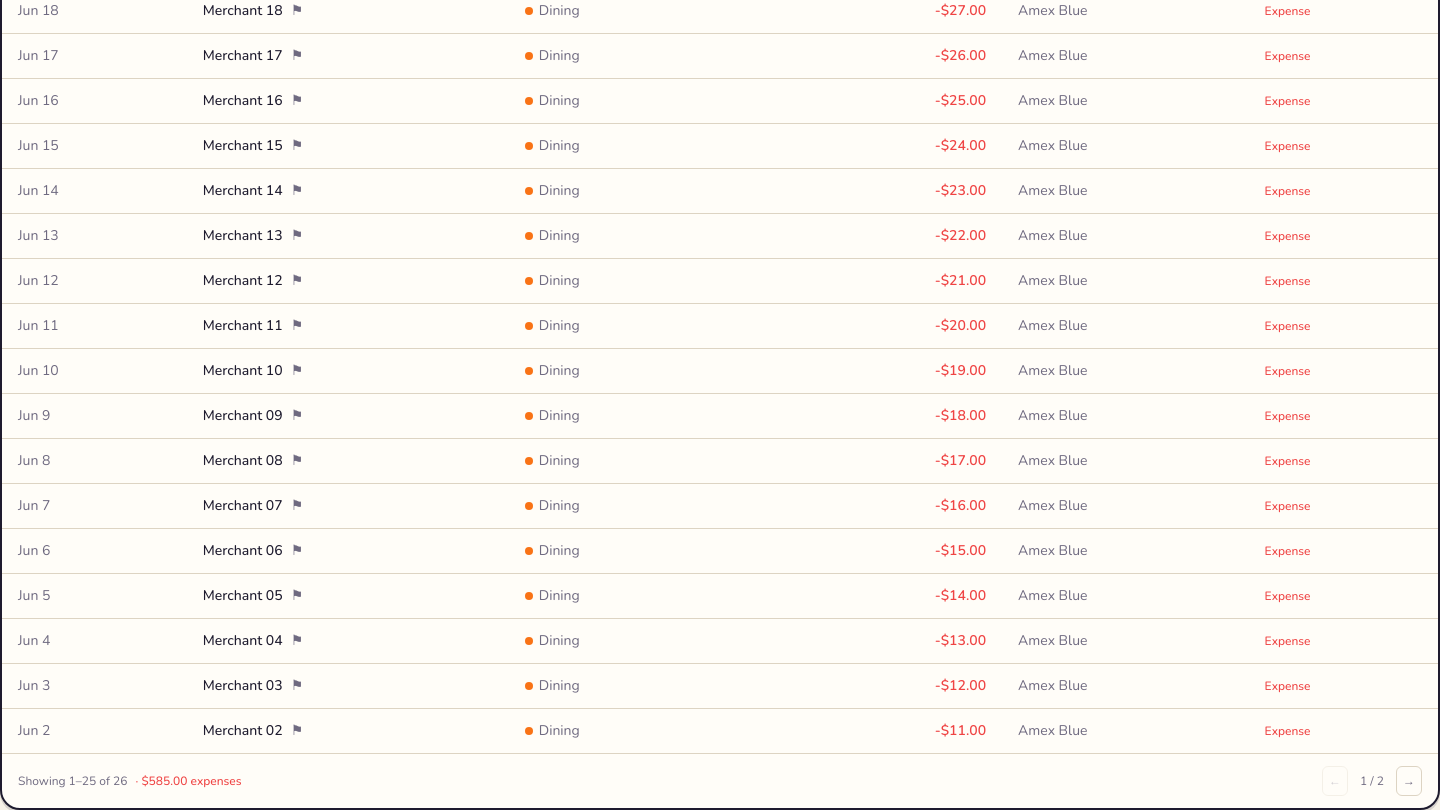
TransactionTable — pagination › advances to page 2 on next click and shows Merchant 01
(page scrolled)
Click the button named "next page" at point(1409, 781), box [1396,766,1422,796]
(page scrolled)
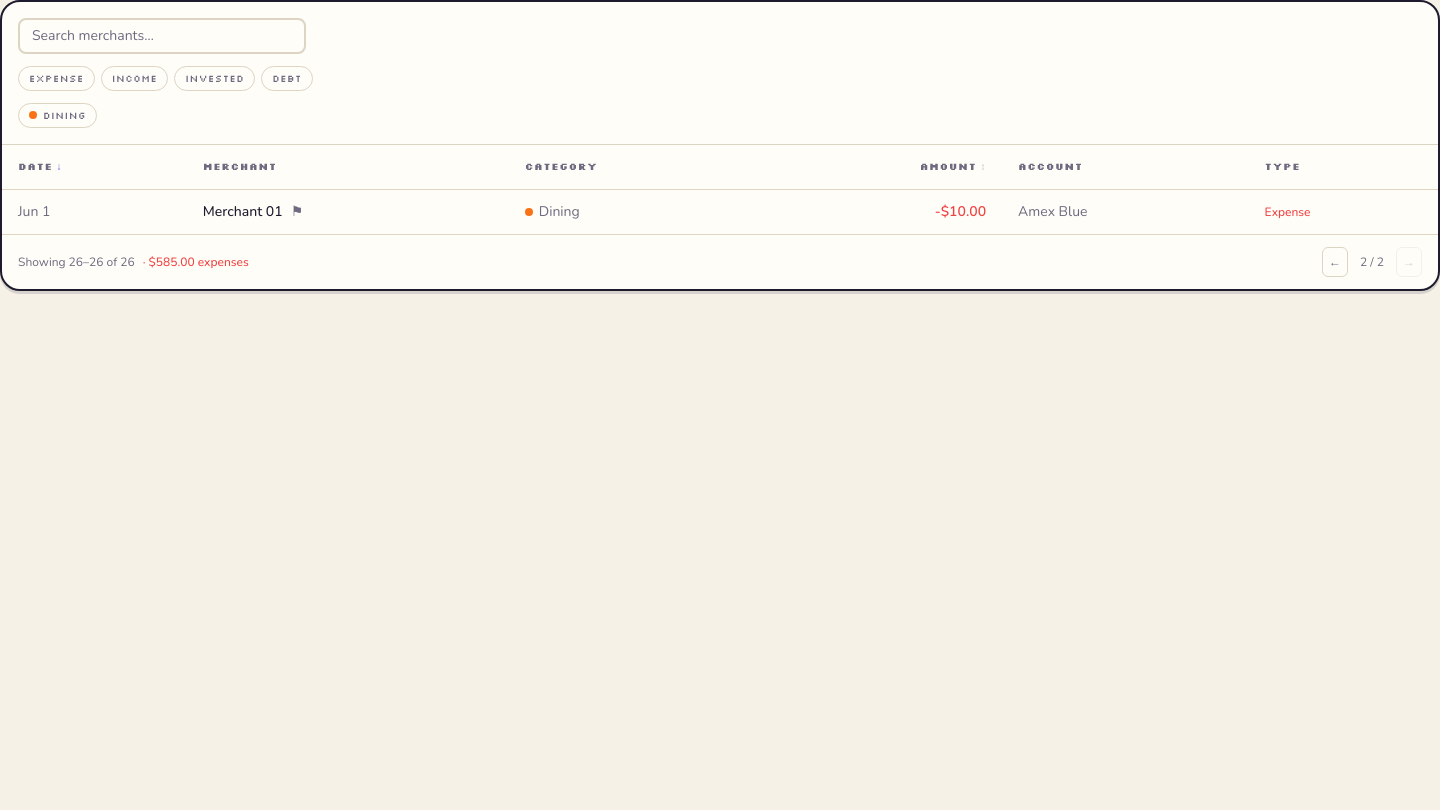
Check: the text "Merchant 01" is shown, box [203,202,283,222]
